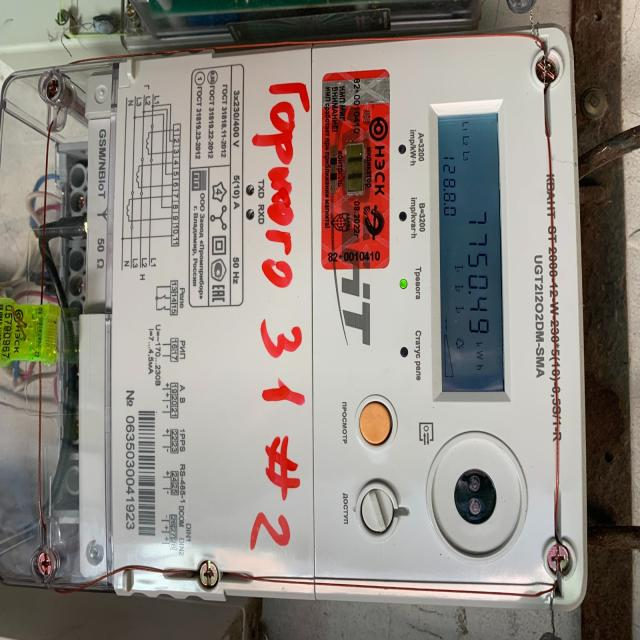Display: (424, 91, 515, 416)
Meter_kvant: (0, 0, 604, 619)
meter_number: (111, 382, 160, 546)
seal_elso: (0, 293, 57, 373)
seal_imp: (317, 64, 395, 270)
